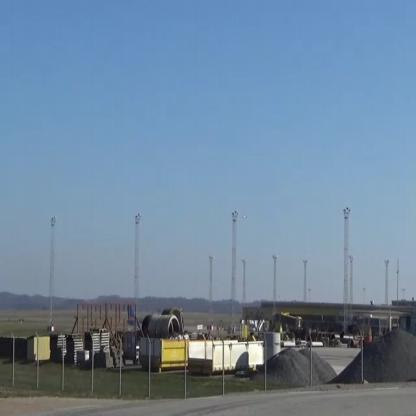CIV_Plane: (242, 212, 249, 222)
